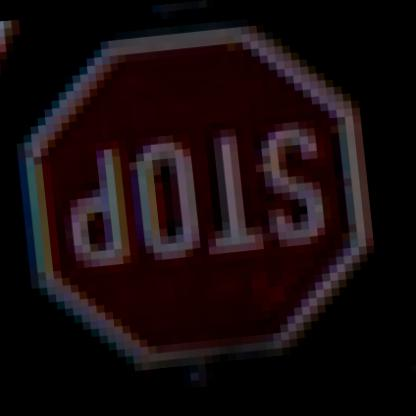stop: (0, 5, 410, 387)
